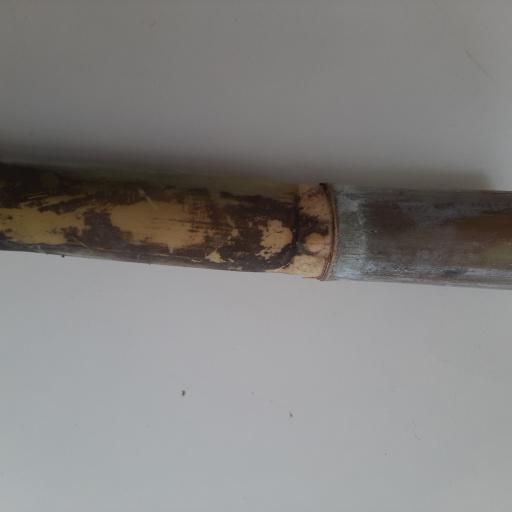Bud: (299, 230, 328, 255)
